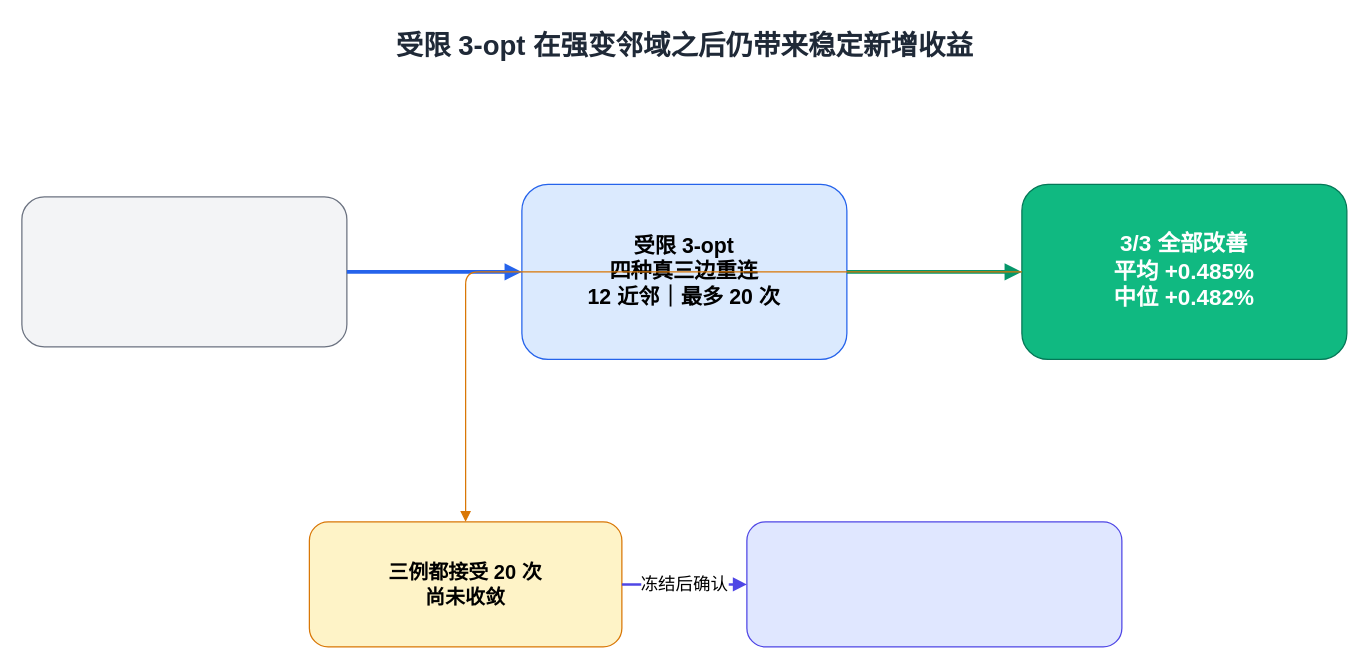
Image size: 1369x669. Some labels were removed from this diagram. Here are the shapes that lost their labels. From the top down, the box of each, then its label:
(21, 196, 347, 347): Stage CB 最佳路线 2-opt、节点移位、片段移位 和 8 次重启均已完成
(746, 521, 1122, 647): 先做外部 28 实例确认 参数不变，不在开发集加预算
